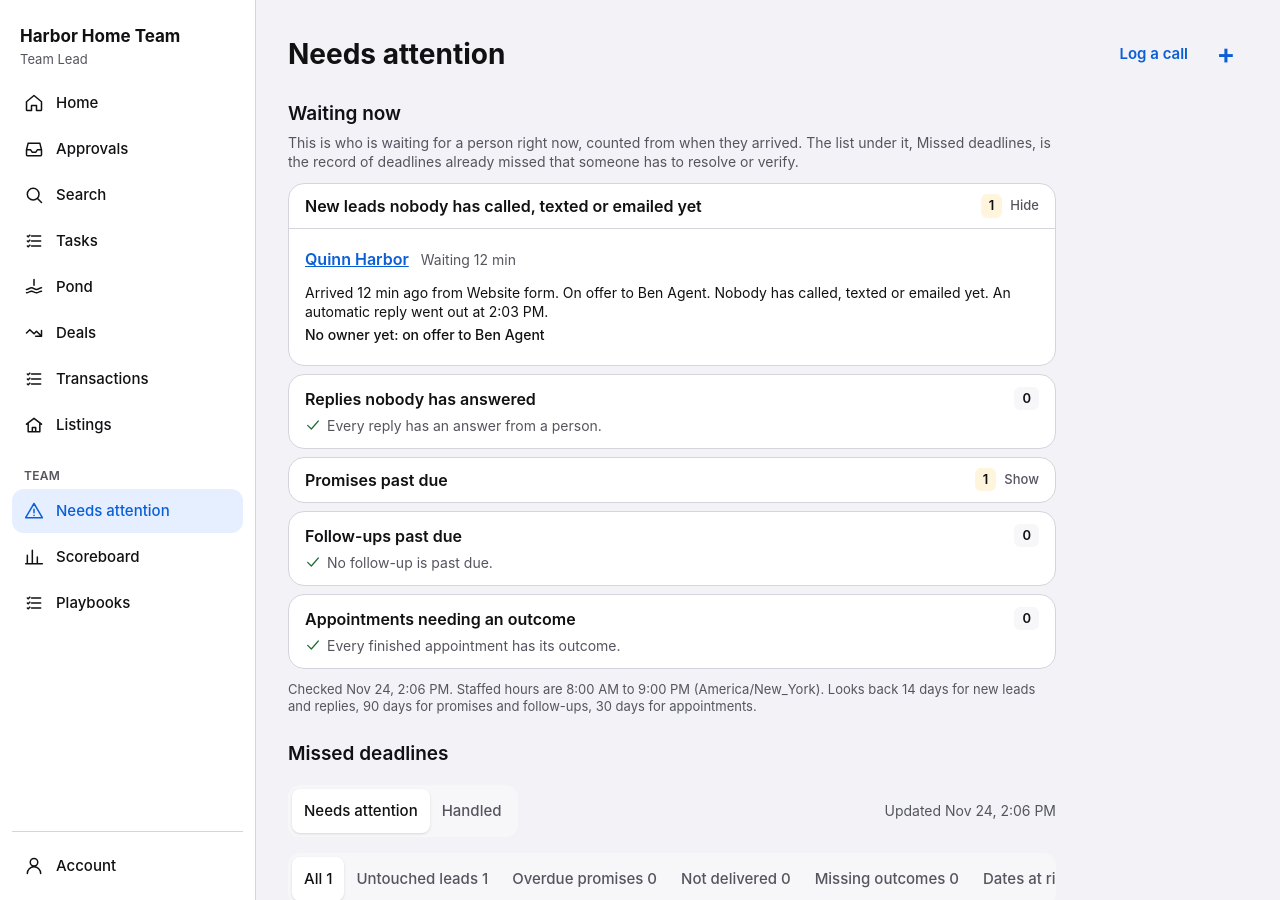
Test: Team work queue › R-TEAMQ-1: groups are collapsible: the new-lead group starts open, the others closed, and a tap opens one
This screenshot has width=1280, height=900.
Check: the text "Checked " is shown, box top-left (288, 680), bottom-right (1035, 714)
Check: the link "Rhea Doe" is not shown
Click the button "Promises past due 1 Show" at (376, 480), box top-left (289, 458), bottom-right (1055, 502)
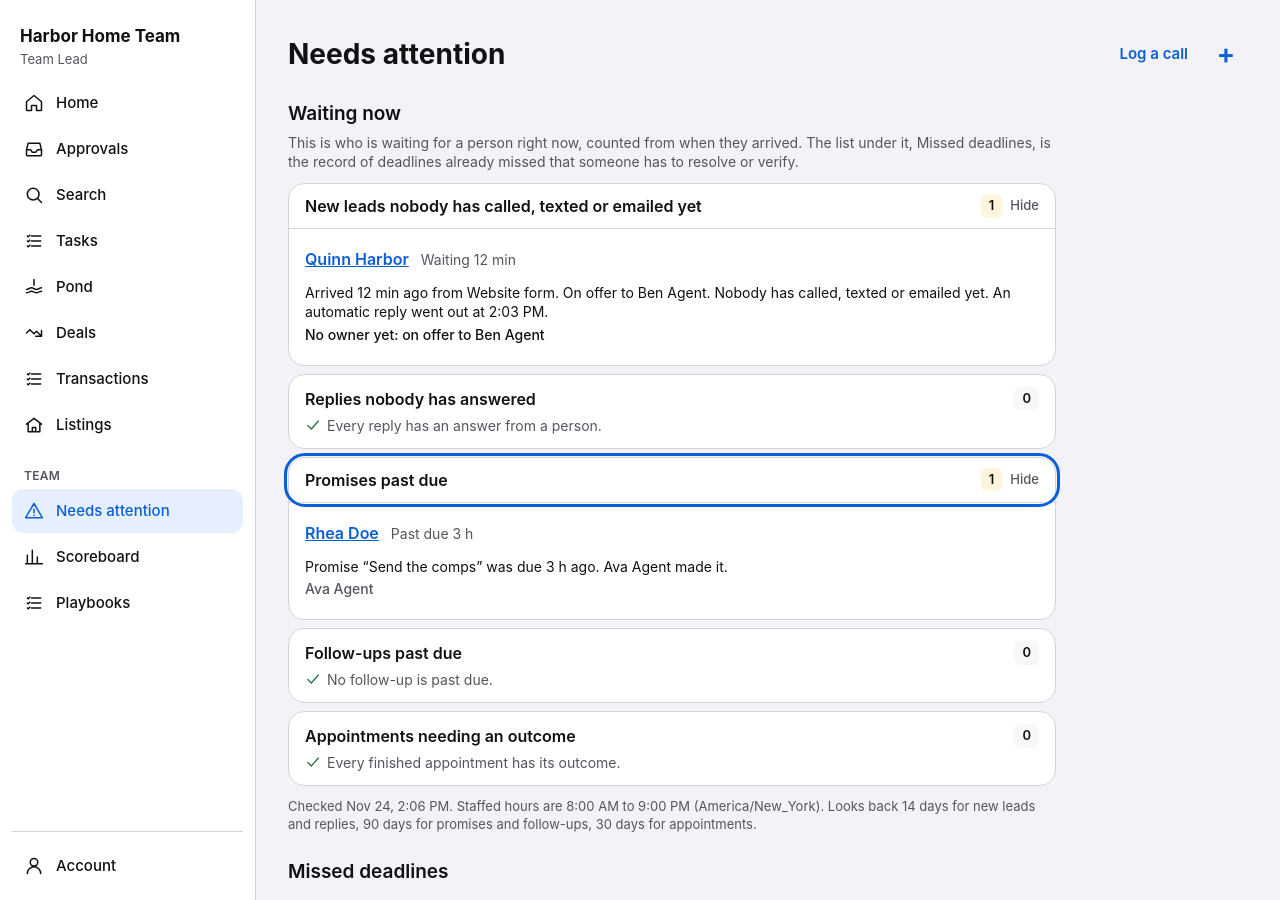
Check: the button "Promises past due 1 Hide" is expanded, box top-left (289, 458), bottom-right (1055, 502)
Check: the text "Promise “Send the comps” was due 3 h ago. Ava Agent made it." is shown, box top-left (305, 558), bottom-right (728, 574)
// closing the first one keeps it closed, and hides its rows
Click the button "New leads nobody has called, texted or emailed yet 1 Hide" at (672, 206), box top-left (289, 184), bottom-right (1055, 228)
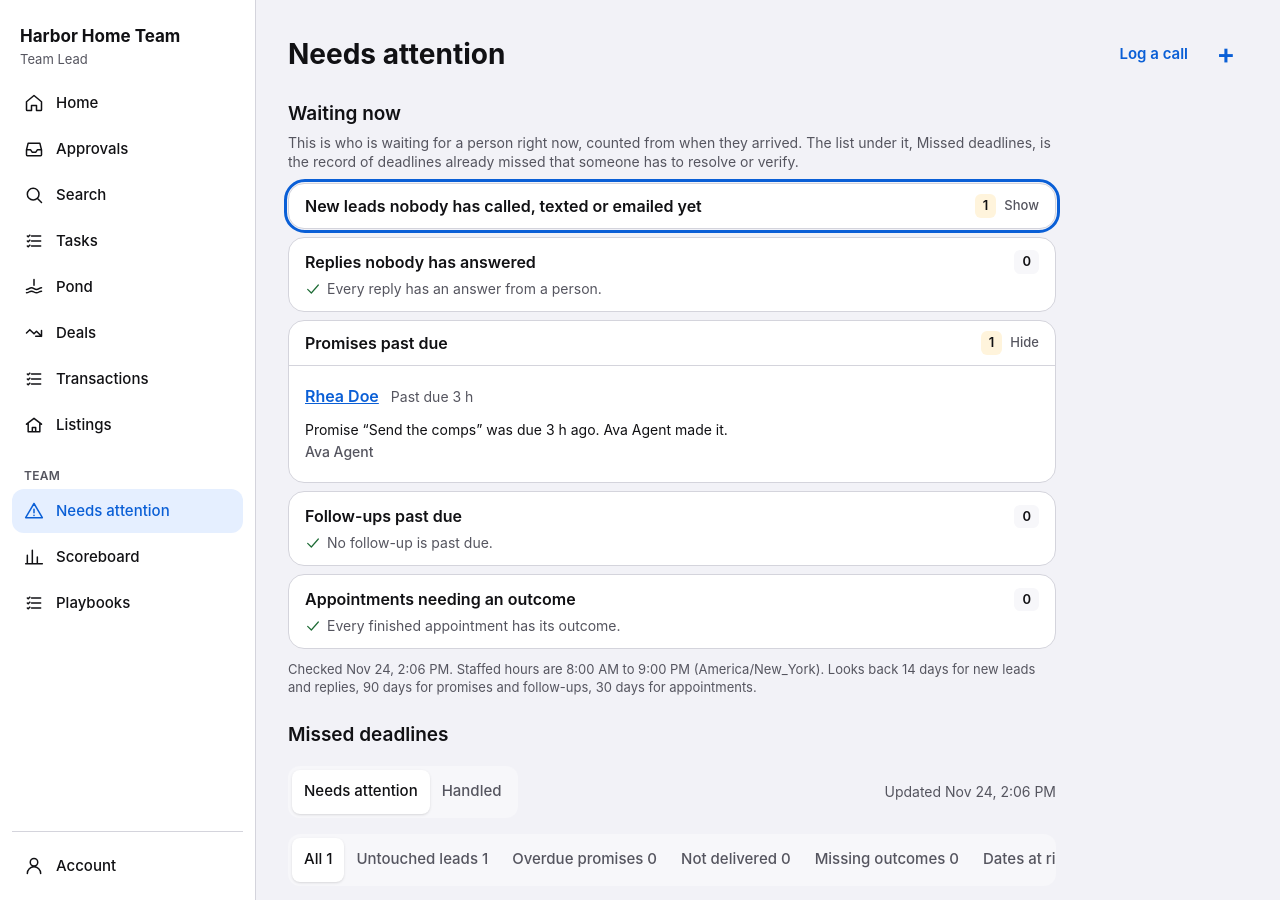
Check: the button "New leads nobody has called, texted or emailed yet 1 Show" is collapsed, box top-left (289, 184), bottom-right (1055, 228)
Check: the link "Quinn Harbor" is gone
